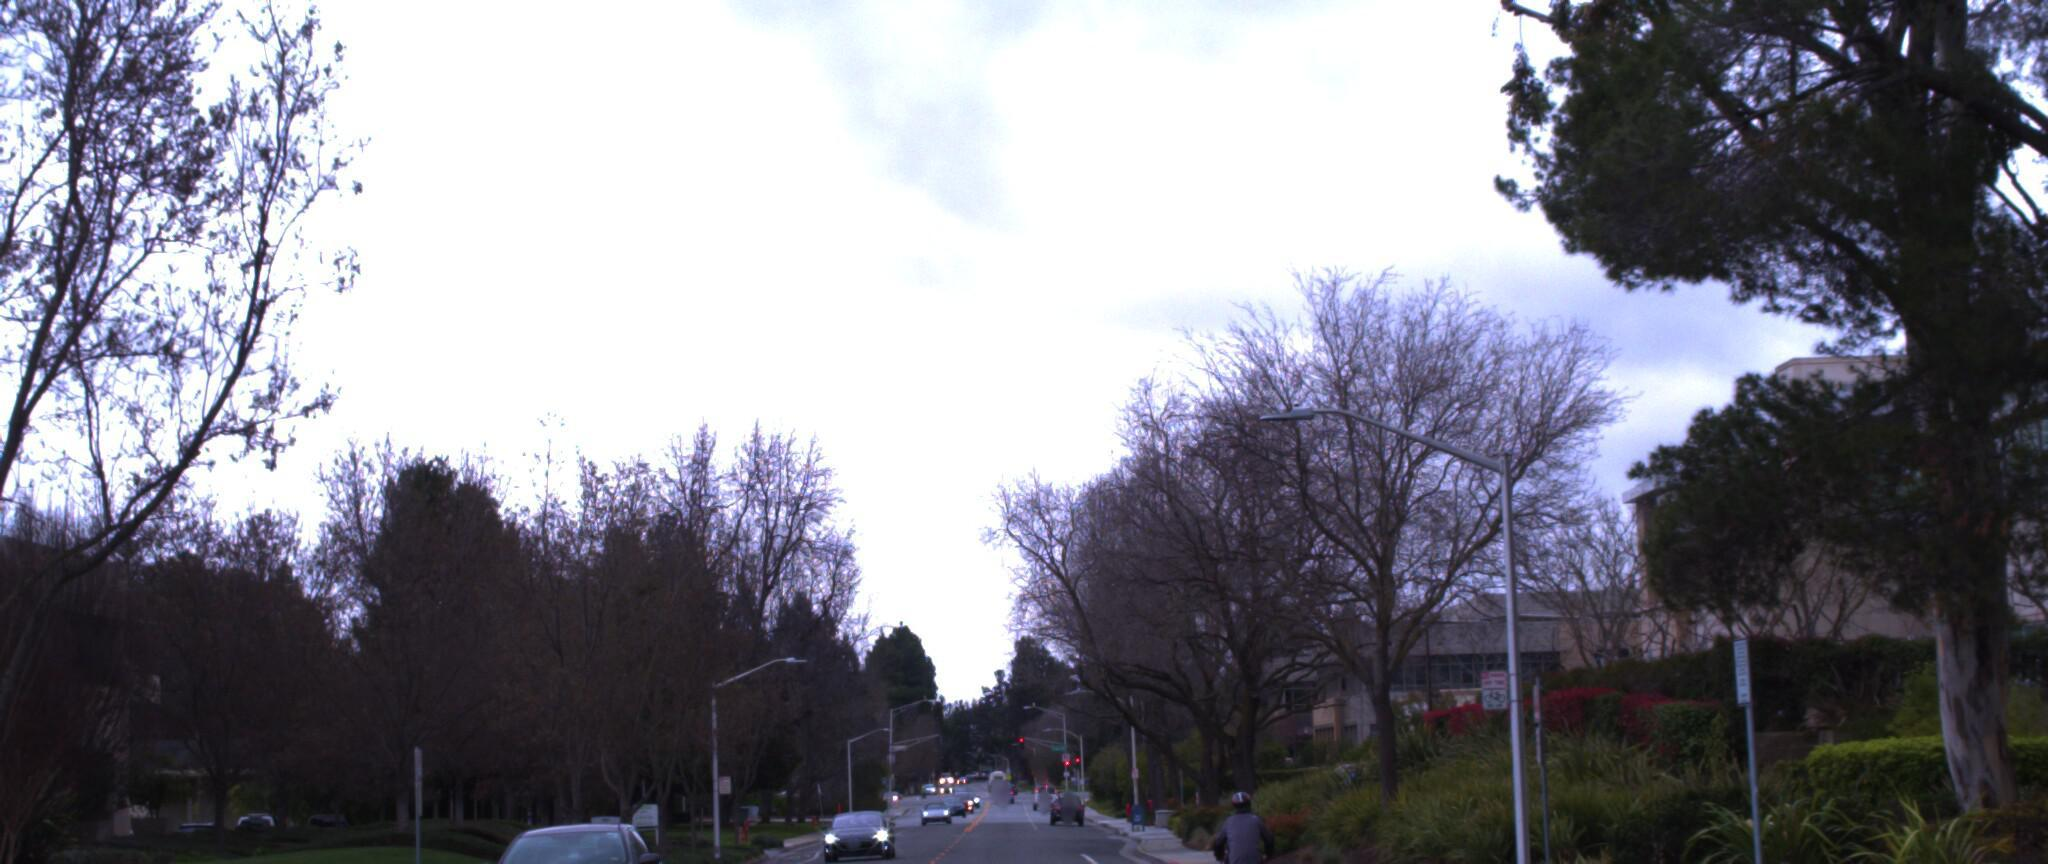bicycle: (1202, 771, 1297, 864)
car: (465, 820, 694, 864)
